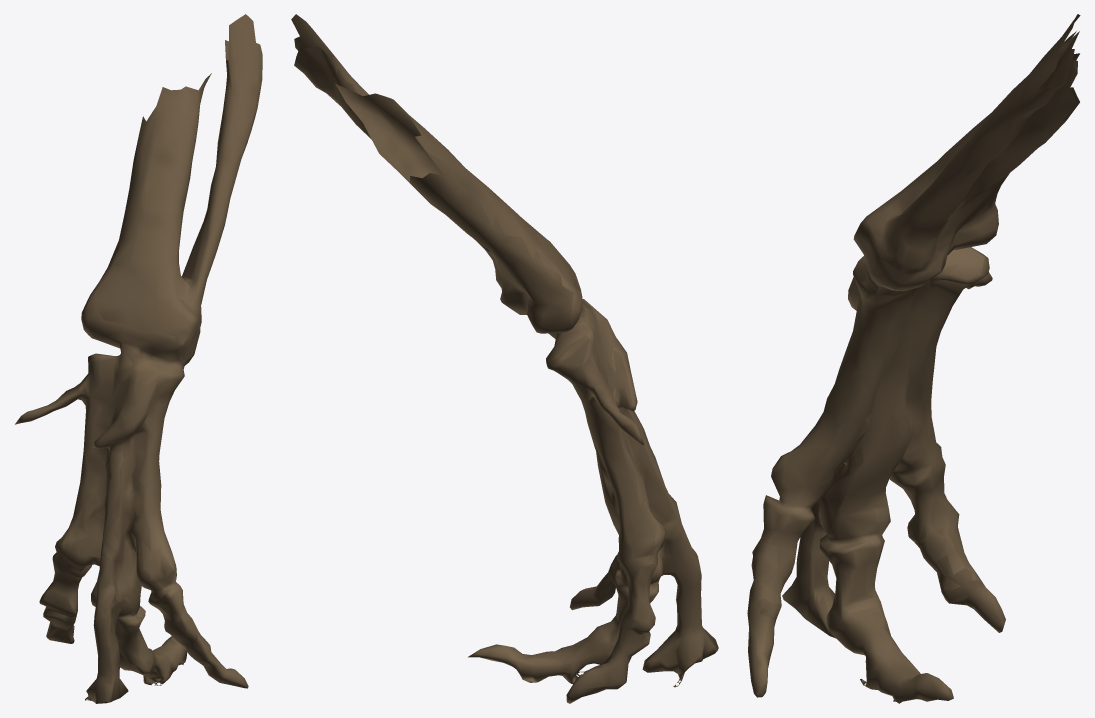
Rendered from Trex_Hindlimb_L.fbx.
3 renders of one model, left to right at view 1: azimuth 30°, elevation 25°; view 2: azimuth 150°, elevation 25°; view 3: azimuth 270°, elevation 25°, orthographic. The views are drawn at different scales.
Visible parts, largest first — view 1: Trex_Hindlimb_L; view 2: Trex_Hindlimb_L; view 3: Trex_Hindlimb_L.
Part boxes in pixels (x1,y1,x2,y2): Trex_Hindlimb_L: [15, 14, 262, 703]; Trex_Hindlimb_L: [291, 14, 718, 703]; Trex_Hindlimb_L: [747, 14, 1080, 703].
Size of the model in its own units: 0.1149 by 0.2335 by 0.0899.
1 material, 1 textured.
